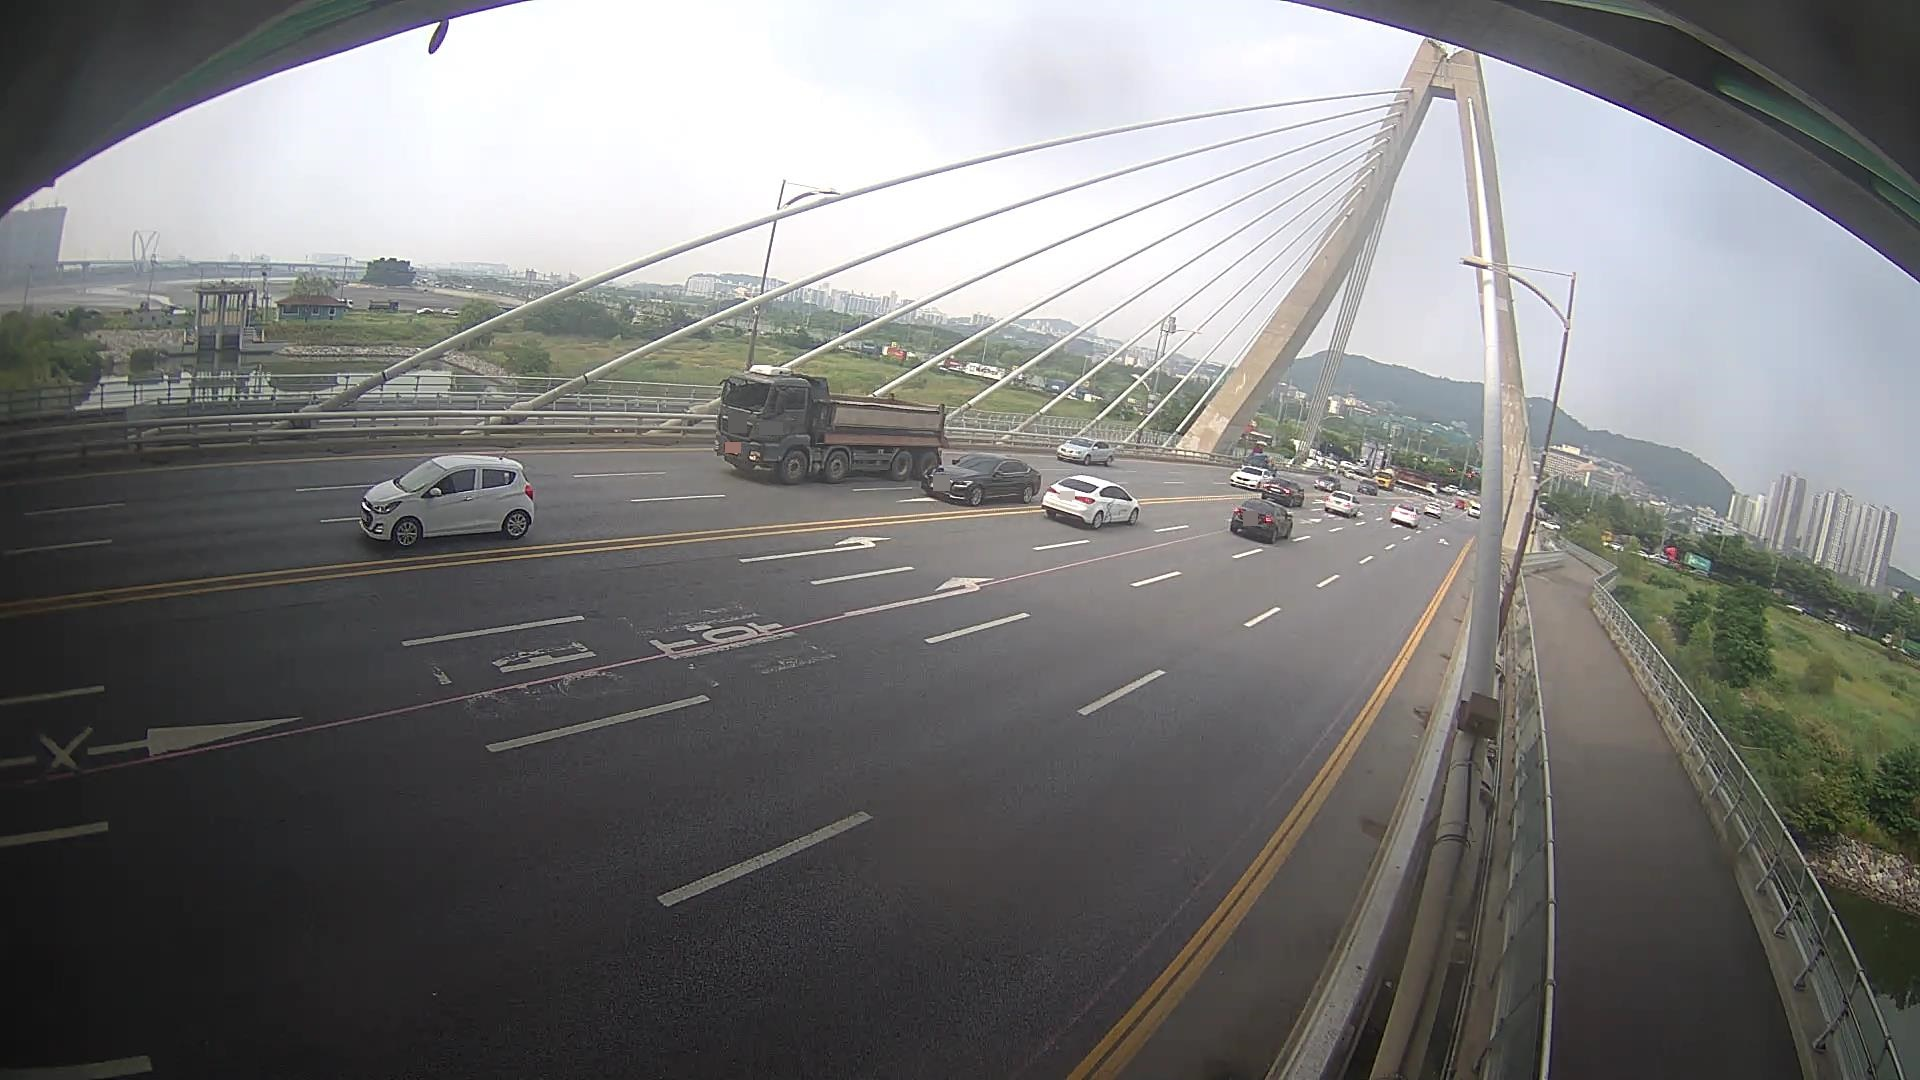정상차량: (716, 365, 951, 485)
